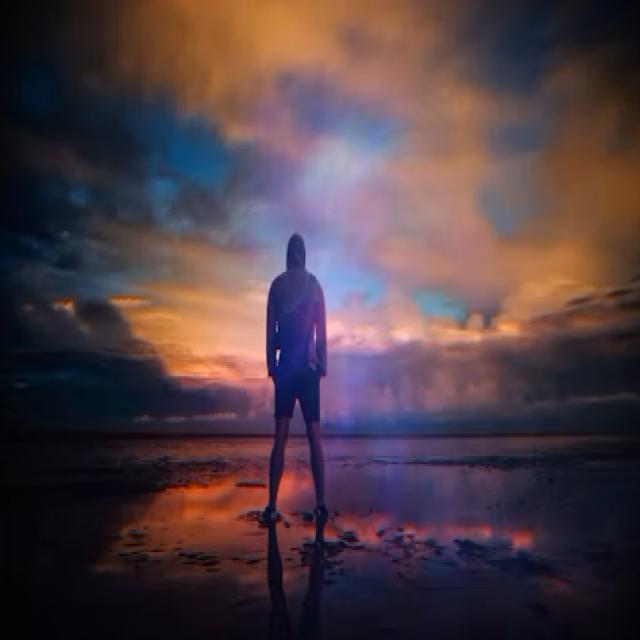Edited images: (255, 209, 358, 549)
